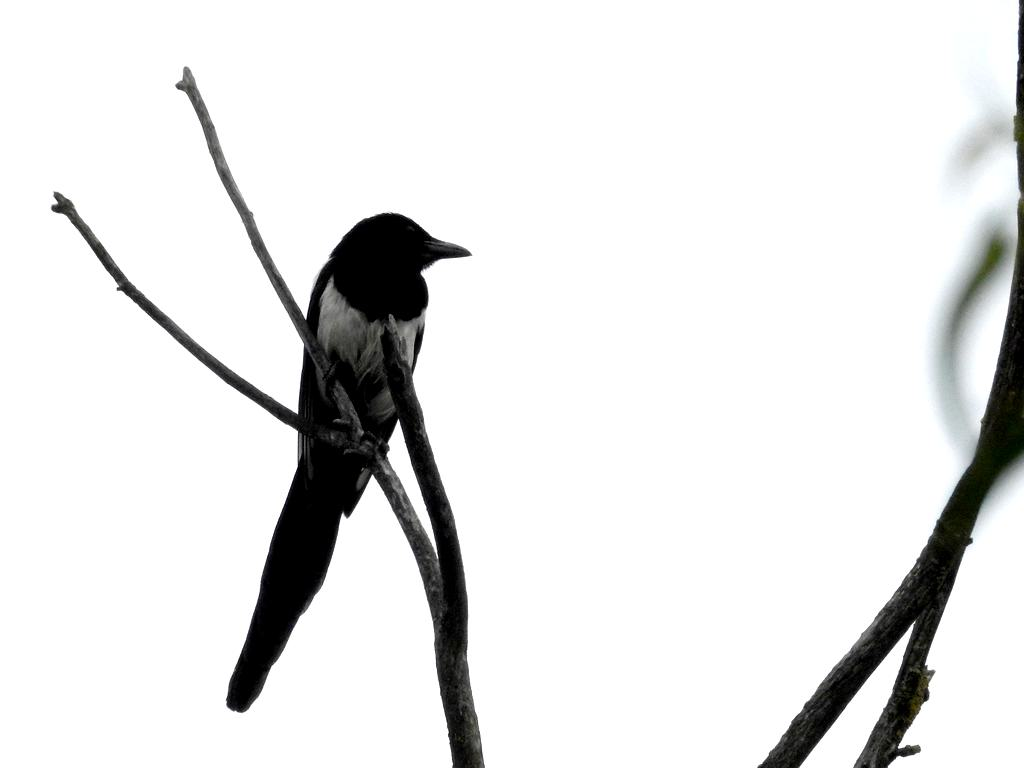PicaPica: (225, 212, 472, 713)
